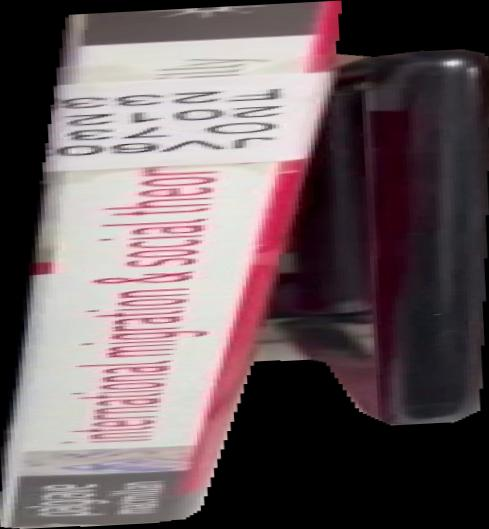reverse: (1, 1, 489, 529)
